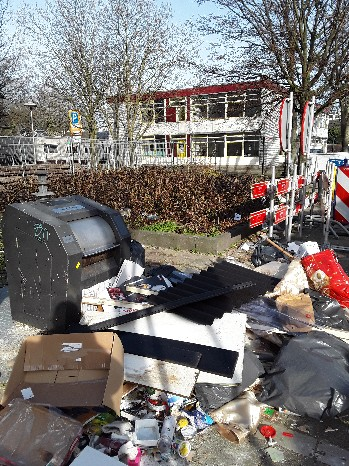Container: (14, 189, 121, 310)
Papier: (18, 339, 125, 417)
Rest: (124, 335, 252, 451), (155, 257, 277, 333), (246, 330, 349, 409), (3, 419, 142, 466), (279, 234, 349, 325), (114, 235, 180, 327)
